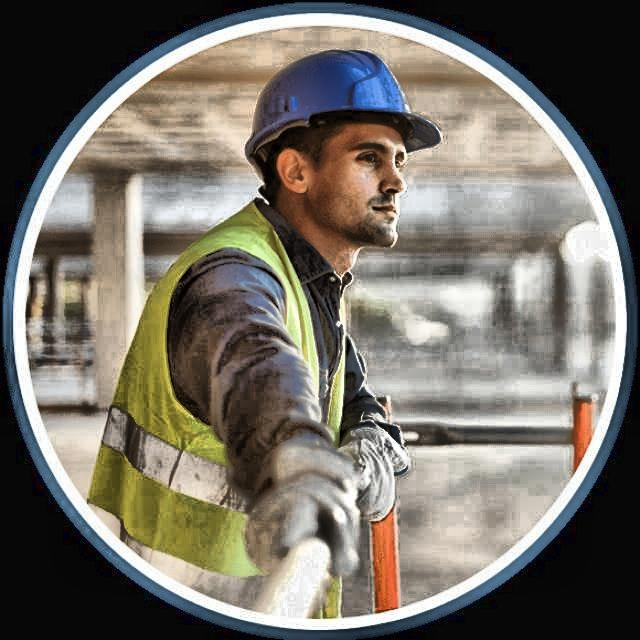person: (102, 48, 427, 602)
